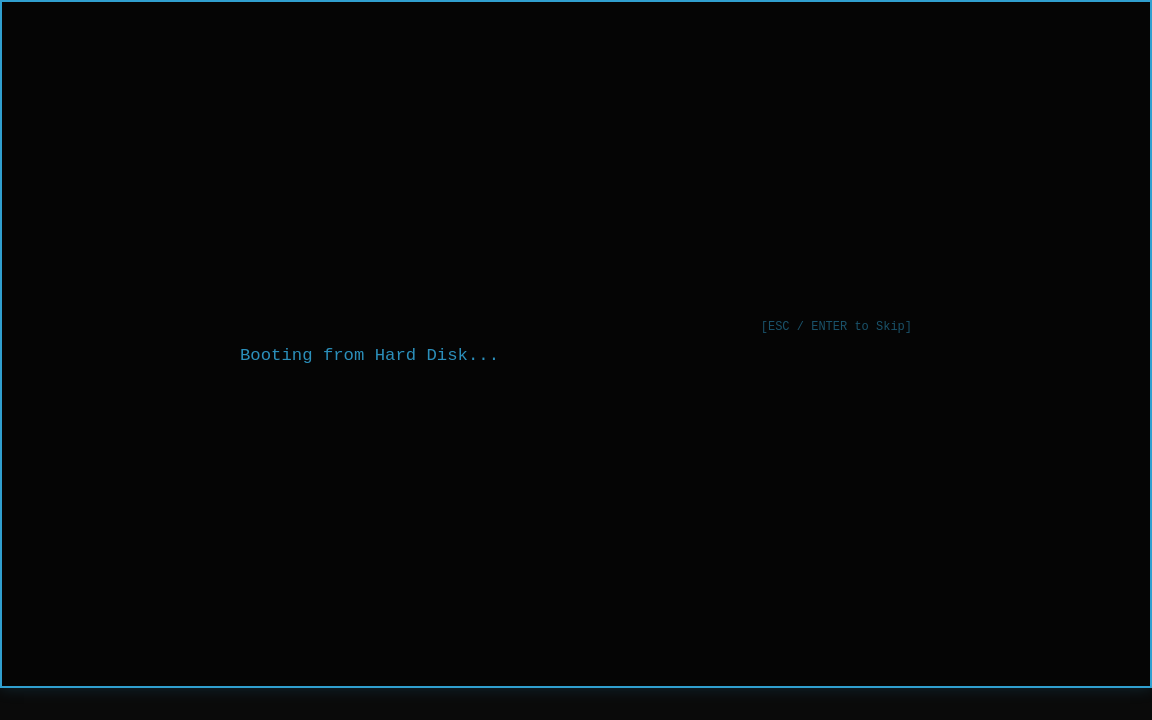
Test: TerminalLayout Component › displays the career timeline when the career command is clicked
Step 1. Press Escape
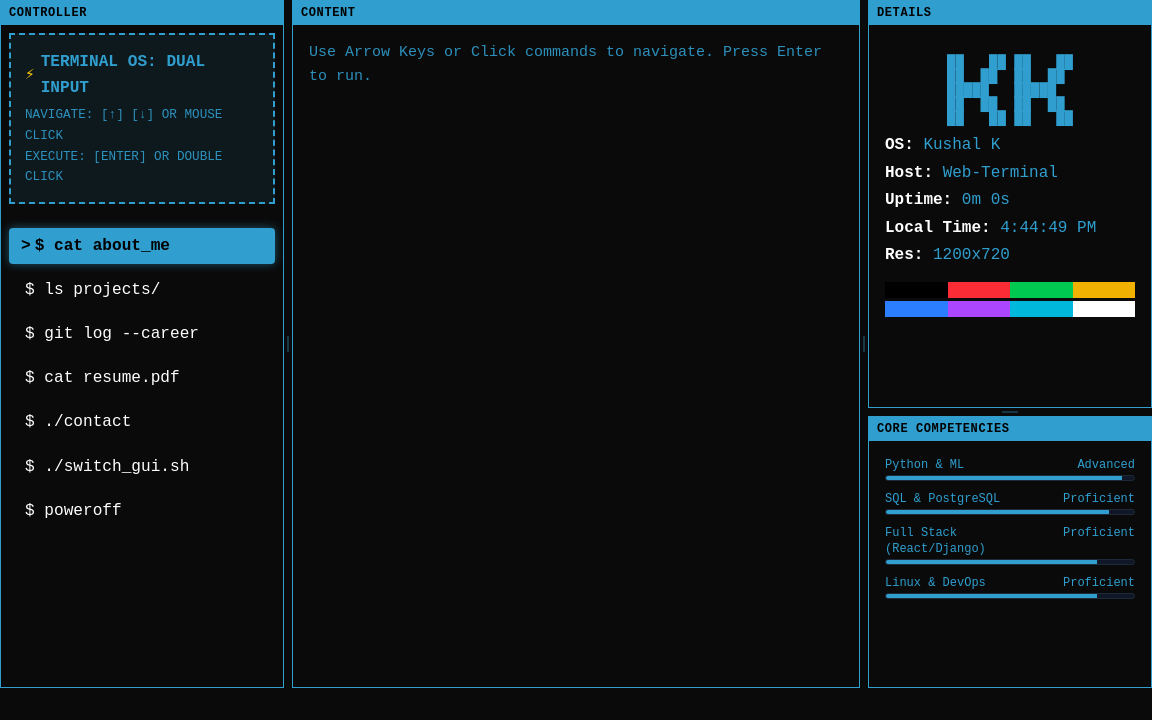
Step 2. Click the button with aria-label "Execute $ git log --career" → (142, 334), box 9,316 -> 275,352
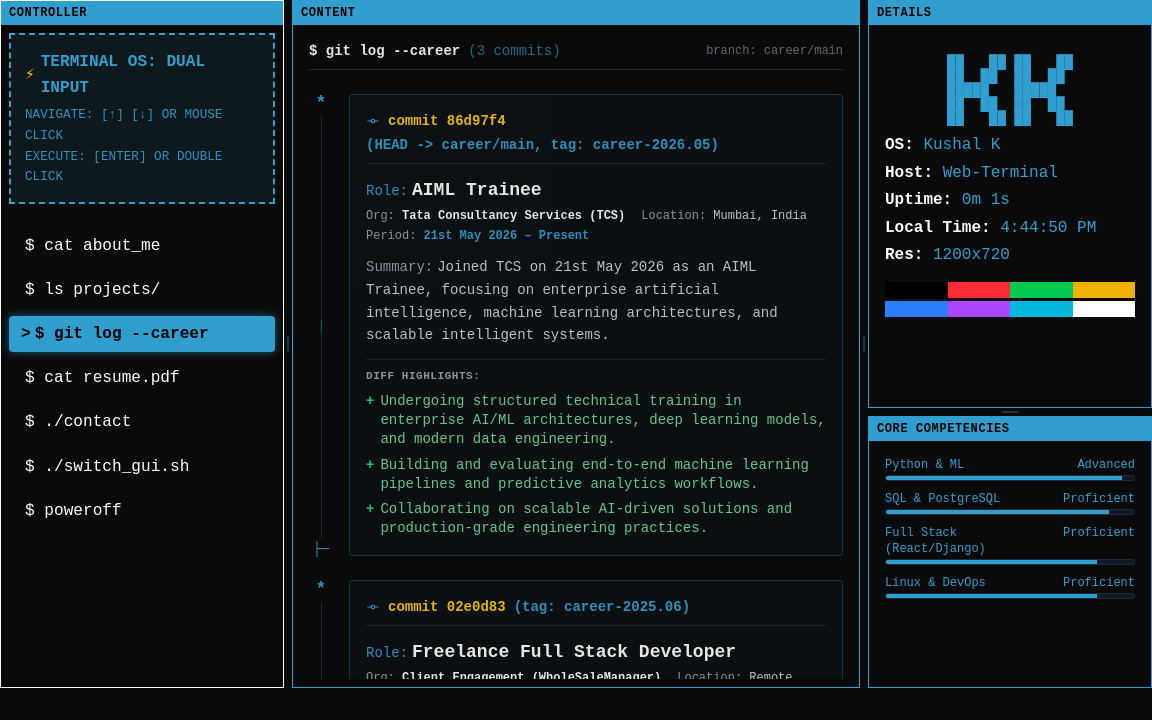
Check: the text "$ git log --career" in the row of "commits)" is shown, box 309,43 -> 460,59
